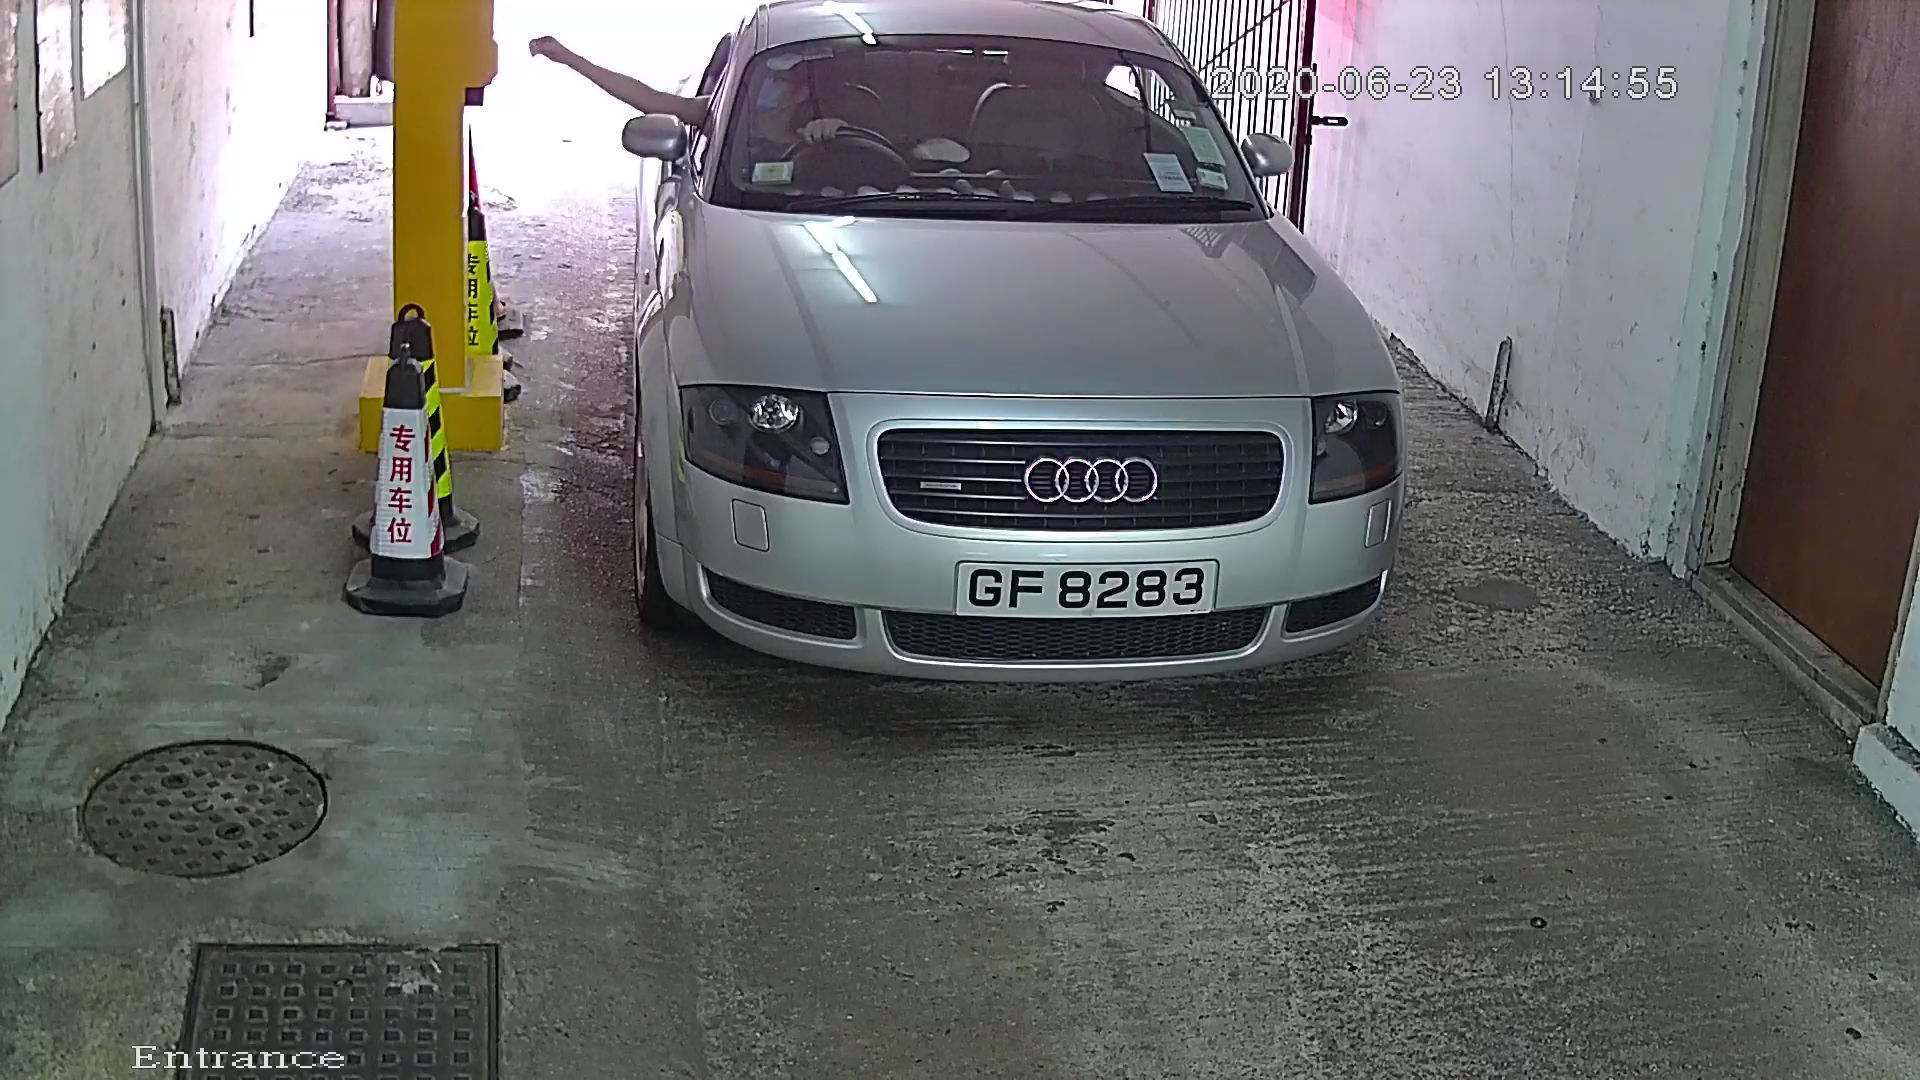privatecar: (566, 3, 1447, 727)
